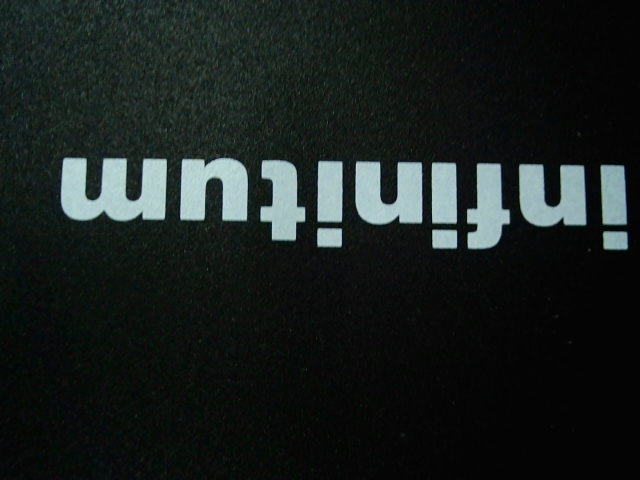BK_infinitum: (55, 140, 632, 253)
